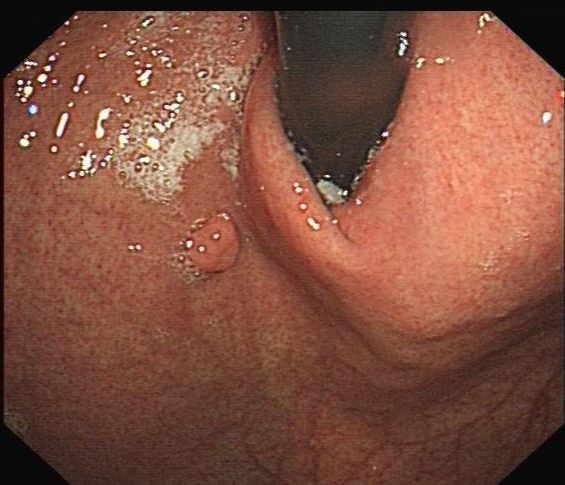Polyp: (172, 210, 252, 280)
